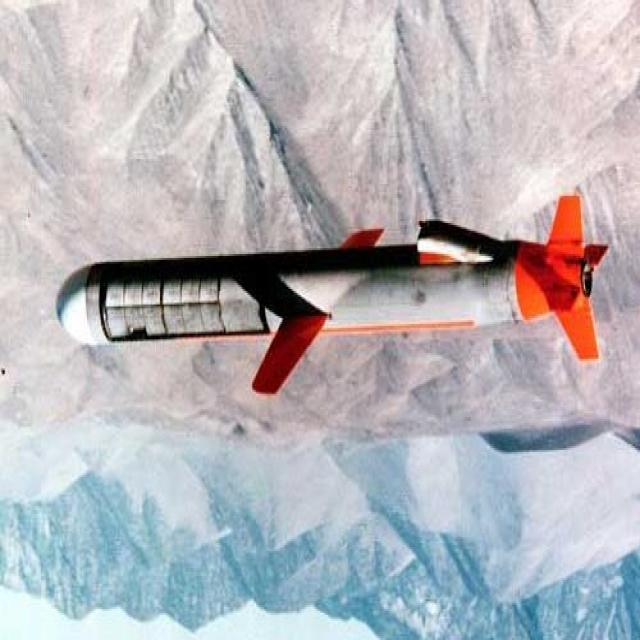missile: (55, 193, 604, 401)
